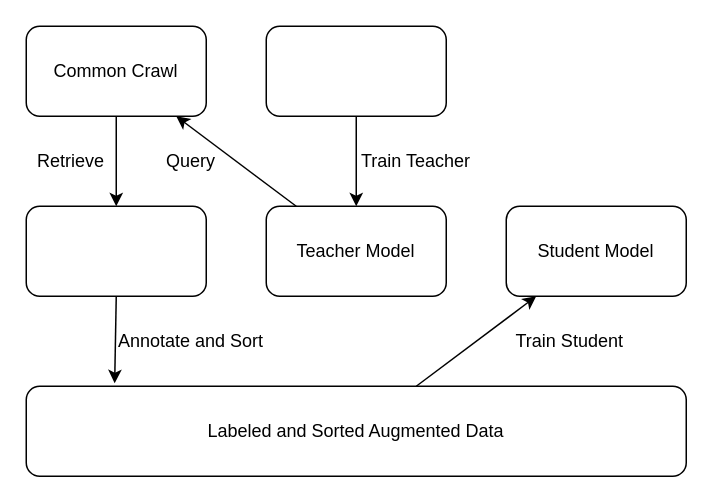
The diagram is 713 pixels wide and 503 high, and some of its shapes have lost their labels. Here are the shapes that lost their labels. From the top down, the box of each, then its label:
(265, 25, 446, 116): Downstream Task Data
(25, 205, 206, 296): Unlabeled Documents
